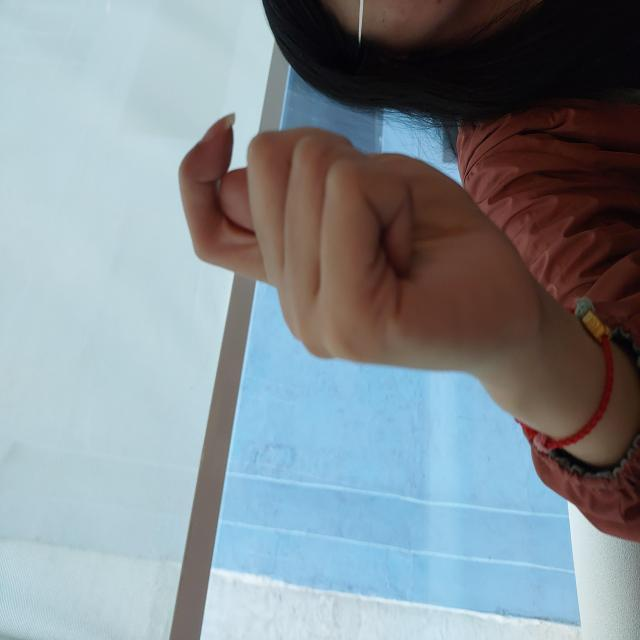T: (271, 176, 527, 538)
